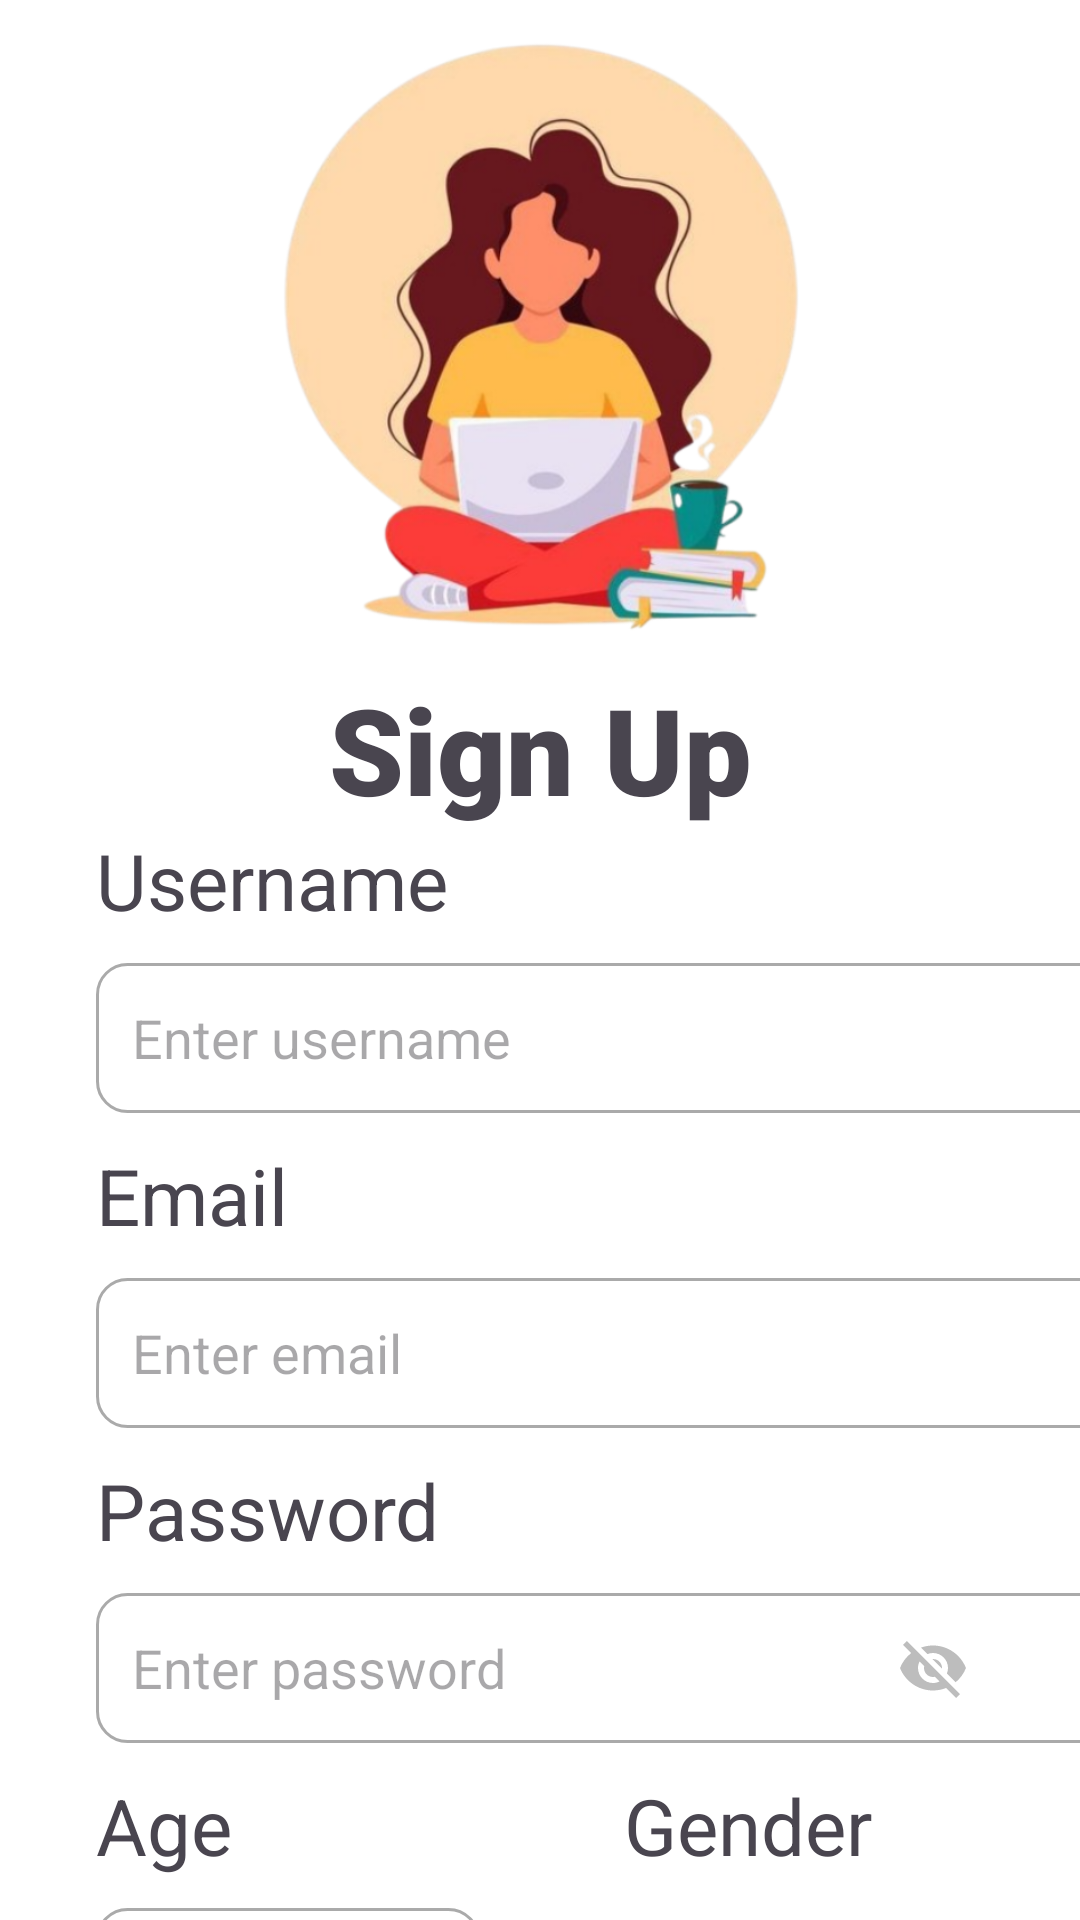

Icon bounding boxes for this 1080 x 1920 phone screenshot, format (x1, y1, x2, y2):
Toggle password visibility: (900, 1641, 966, 1698)
